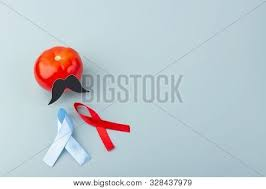tomato: (34, 46, 83, 92)
